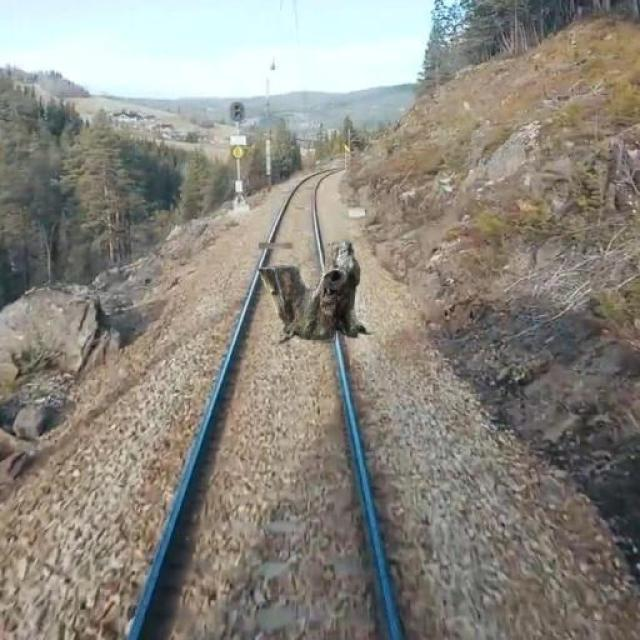Branches: (261, 242, 372, 348)
